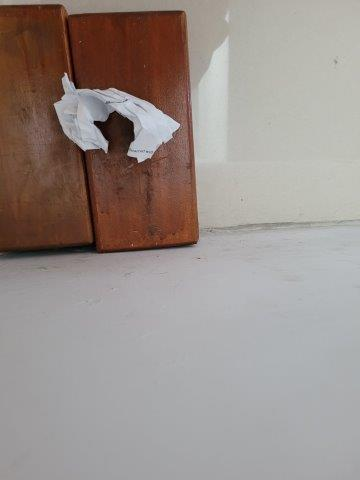kertas: (55, 74, 182, 165)
